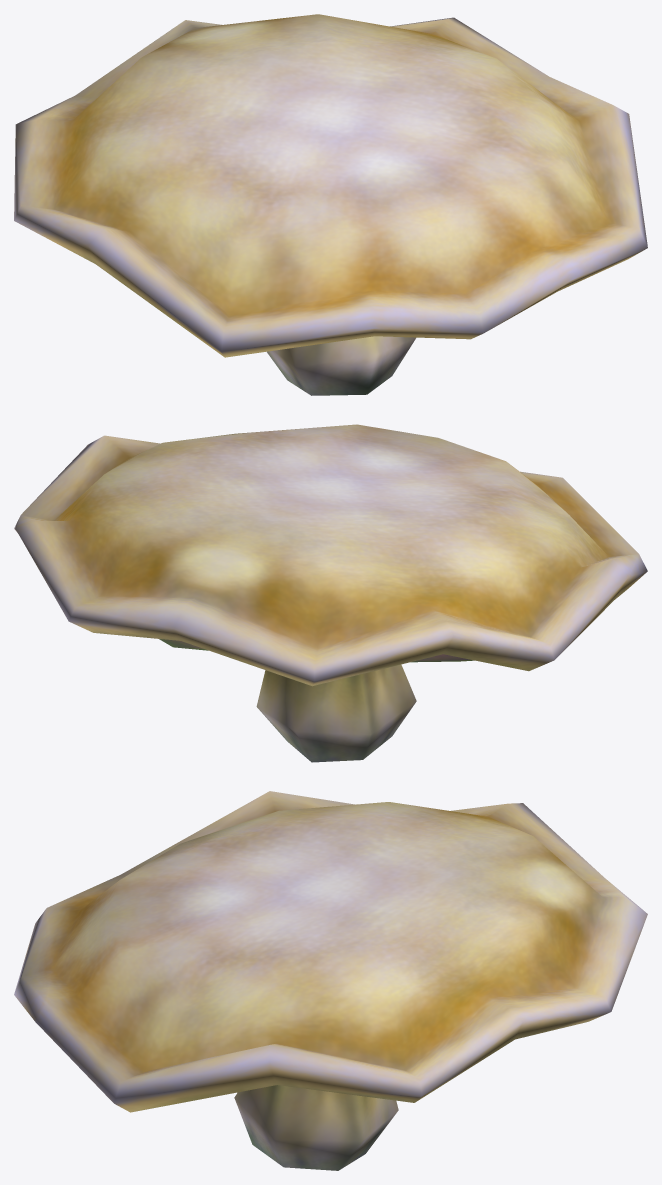
The model's file is ShortWhite_DEFAULT.dae.
3 views of the same model, one above another, from view 1: azimuth 30°, elevation 25°; view 2: azimuth 150°, elevation 25°; view 3: azimuth 270°, elevation 25° (orthographic). The views are drawn at different scales.
Visible parts, largest first — view 1: mesh0; view 2: mesh0; view 3: mesh0.
Boxes of the visible parts, <box> form: mesh0: <box>14,14,647,395</box>; mesh0: <box>14,424,647,762</box>; mesh0: <box>14,791,647,1170</box>.
Size of the model in its own units: 1.36 by 0.6594 by 1.35.
